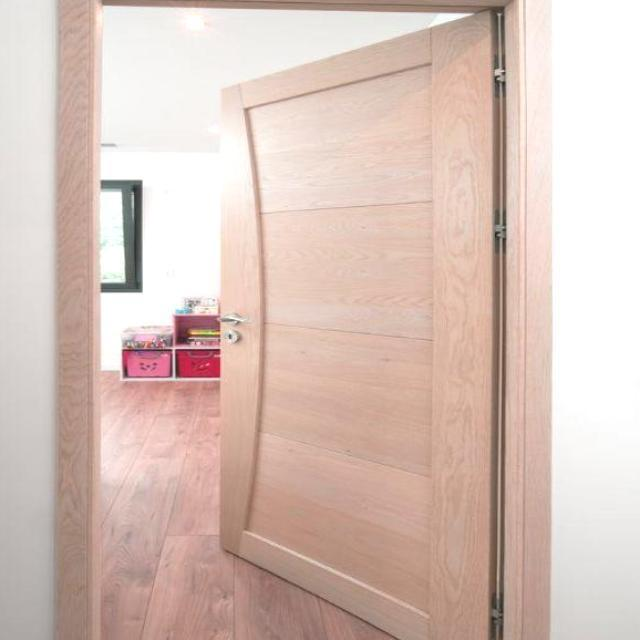door: (216, 8, 503, 638)
